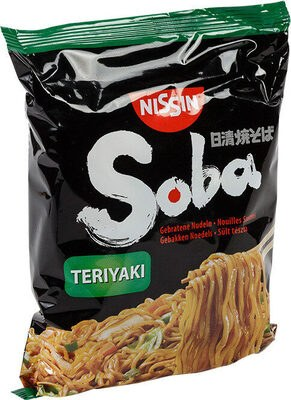Soba Teriyaki: (15, 20, 276, 380)
